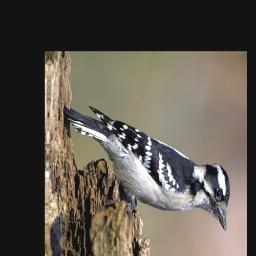Woodpecker: (59, 105, 234, 232)
